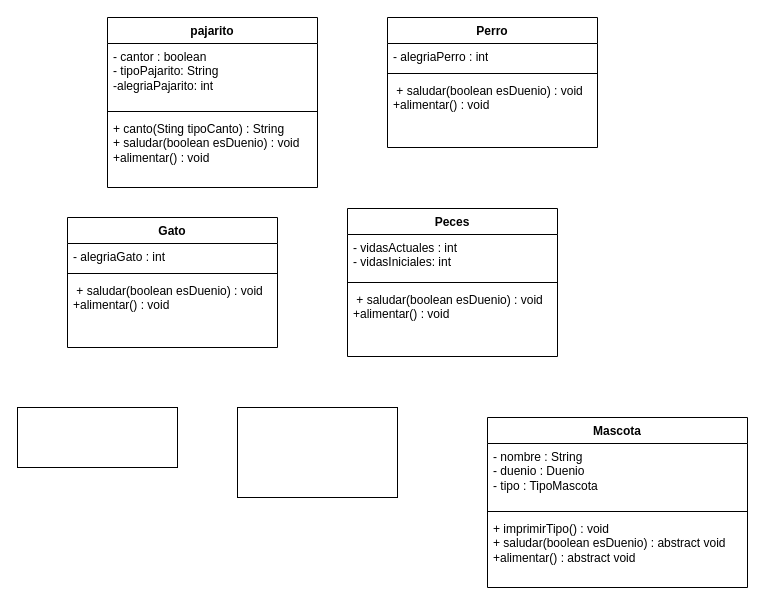
This 765x608 diagram has some shape labels left out. Here are the shapes that lost their labels. From the top down, the centre of each, then its label:
point (97, 437): Duenio - nombre : String
point (317, 452): TipoMascota -PERRO -GATO -PAJARITO -PEZ
